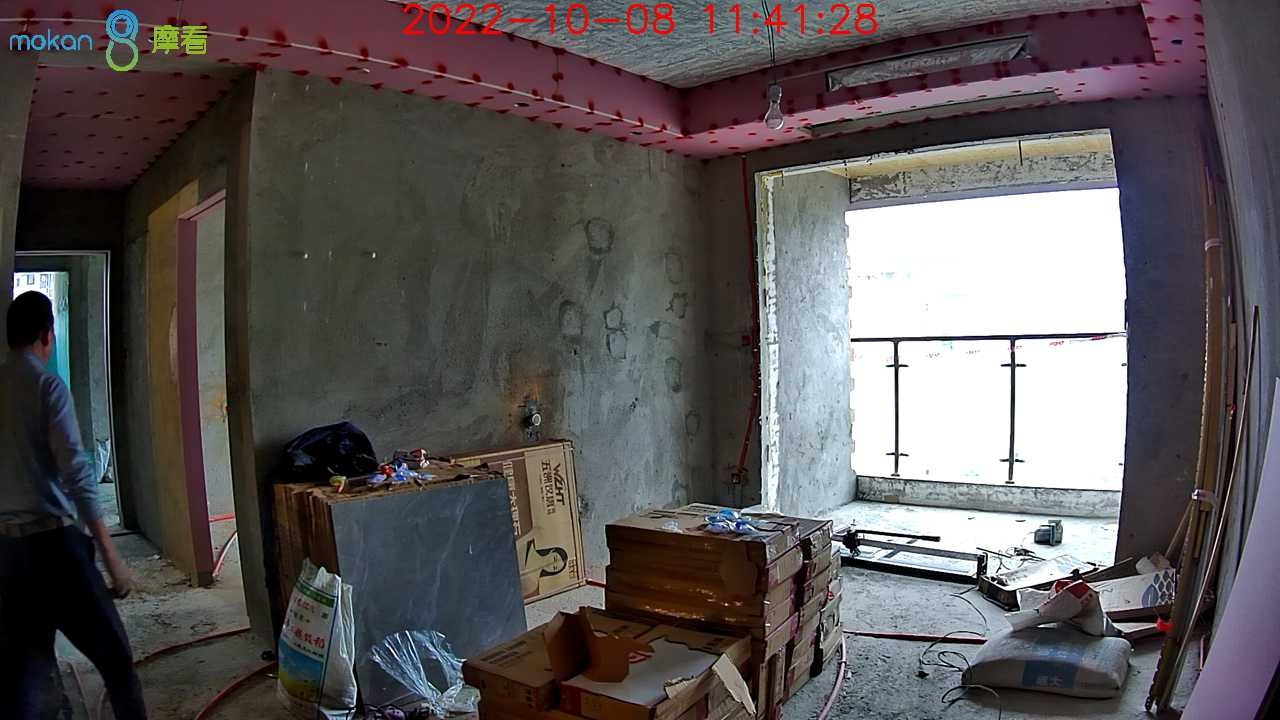people: (1, 288, 148, 720)
window: (845, 187, 1129, 491)
